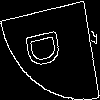D: (24, 25, 69, 70)
